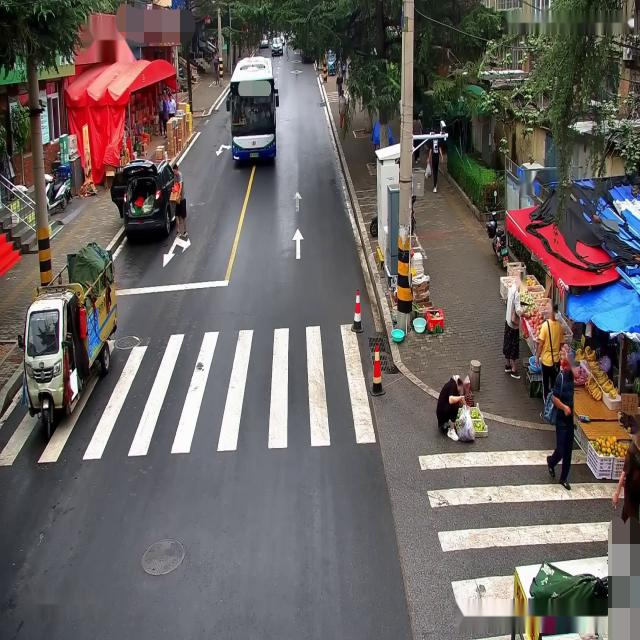fixed_stall: (498, 258, 638, 482), (120, 88, 193, 168), (408, 247, 443, 334), (452, 371, 486, 440)
sunshade: (503, 198, 621, 289), (65, 56, 177, 105), (566, 276, 638, 342)
